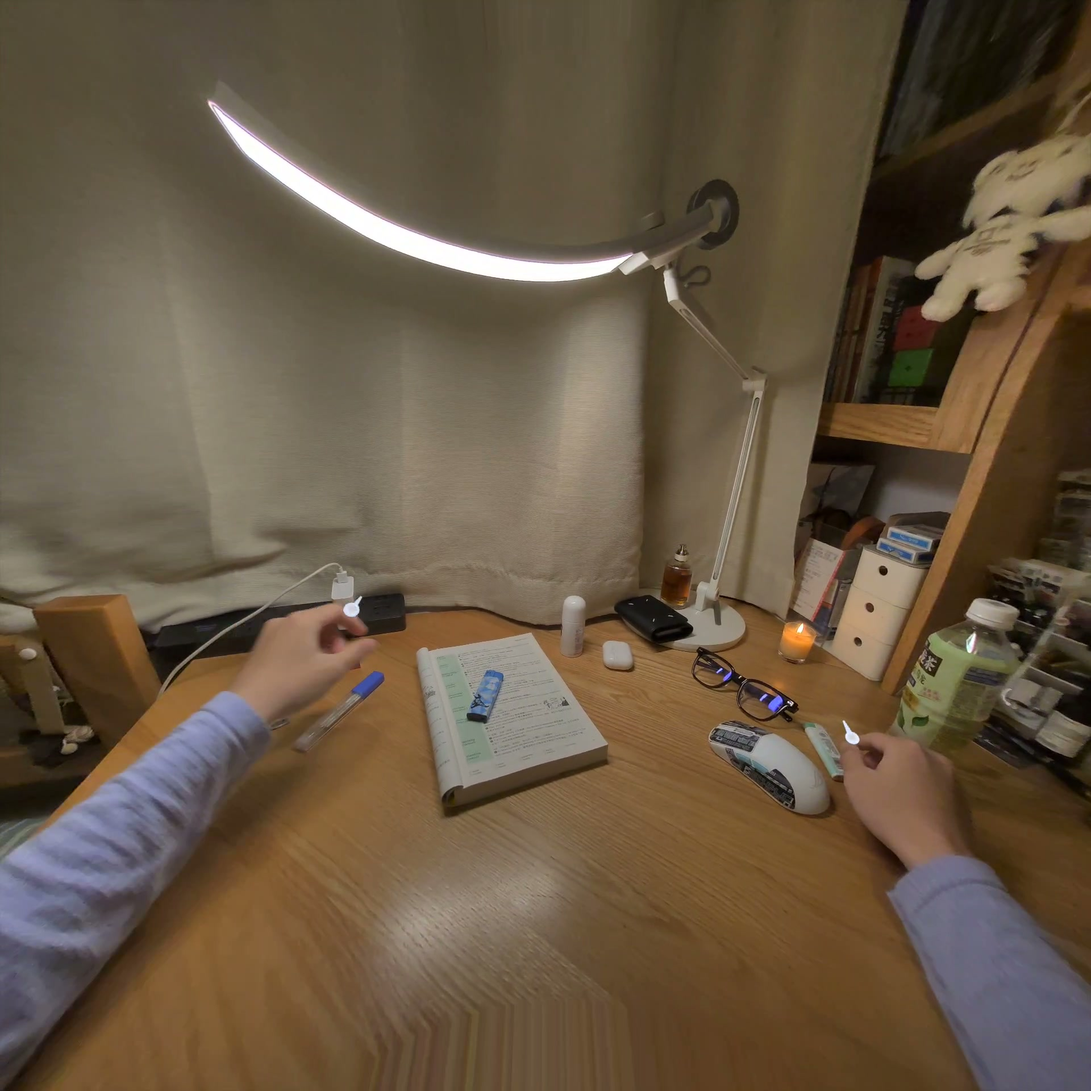lighter: (467, 670, 503, 722)
